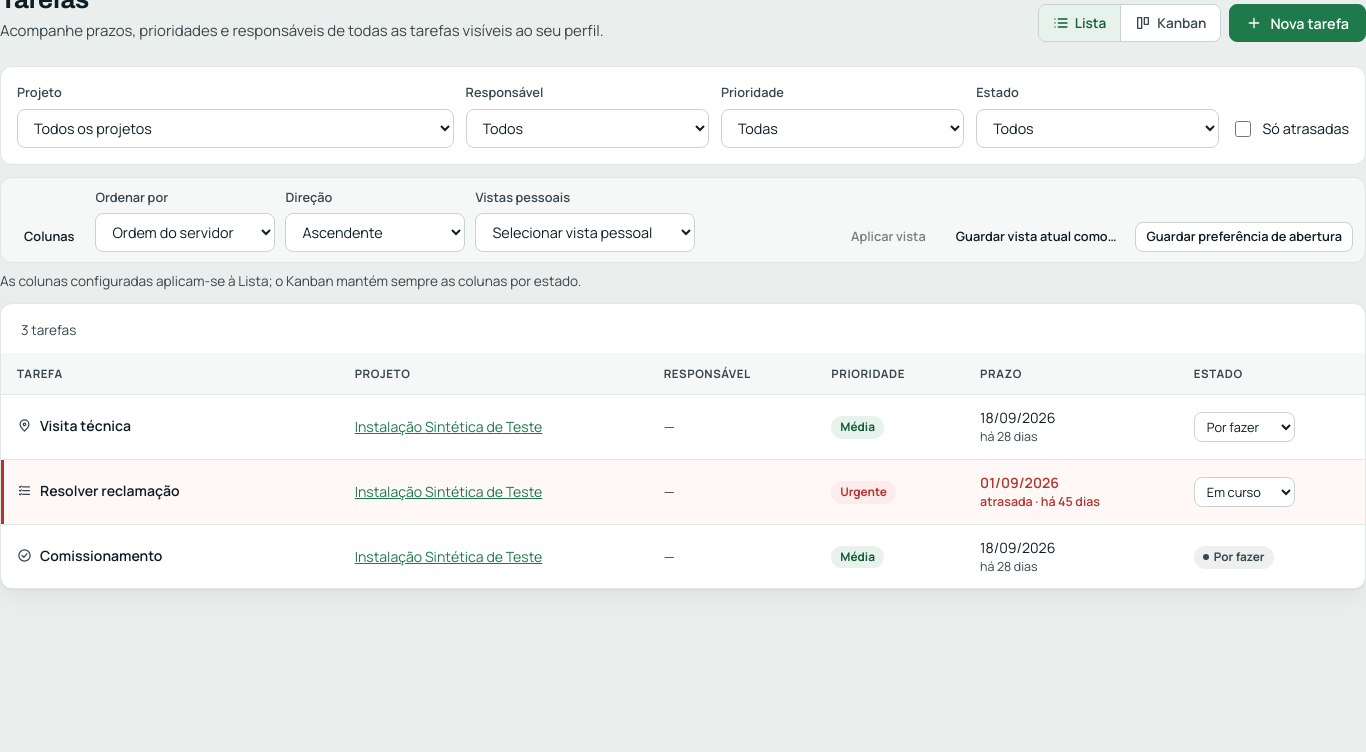
Test: Tasks › permite esconder, reordenar e restaurar colunas da lista sem alterar o Kanban
The width and height of the screenshot is (1366, 752).
expect the text "Visita técnica" is shown: met, box [17, 415, 131, 436]
Step 1. Click the button "Colunas" → [49, 237], box [13, 222, 85, 252]
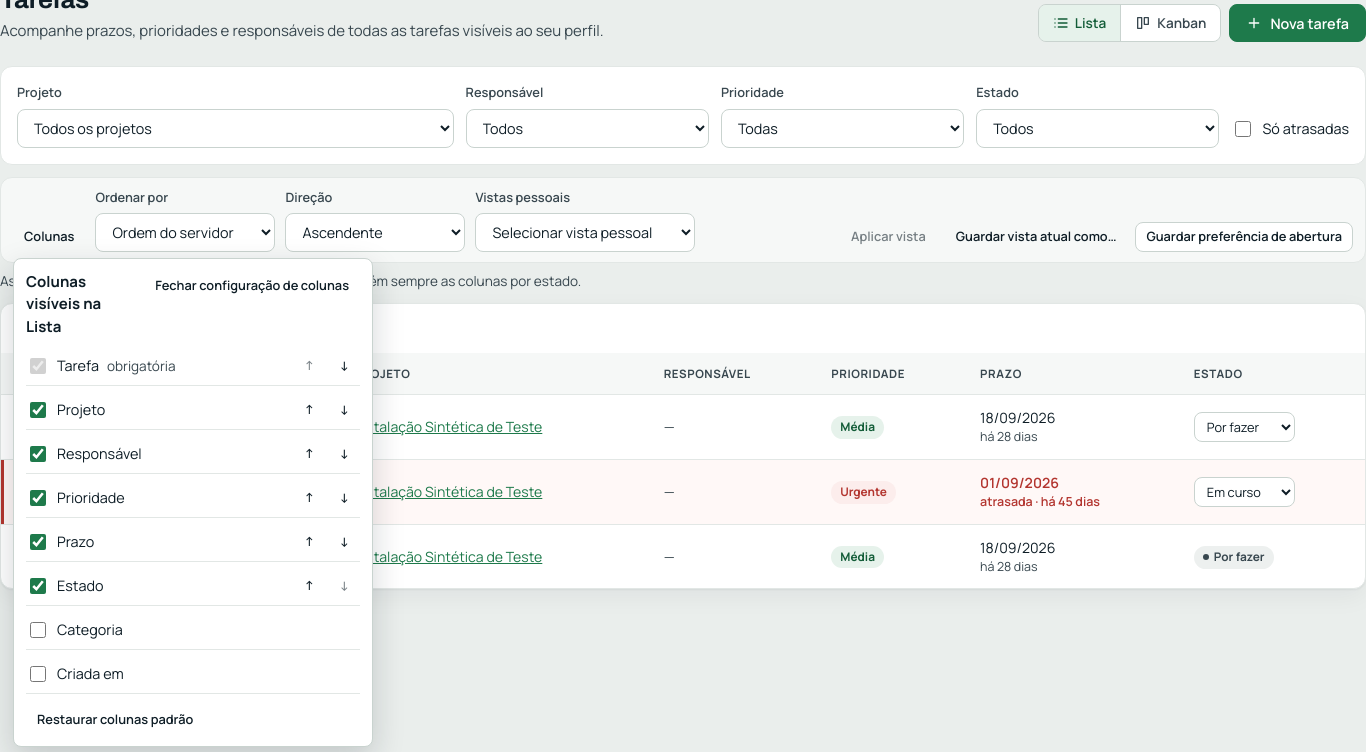
Step 2. Click the checkbox named "Mostrar Responsável" → [38, 454], box [30, 446, 46, 462]
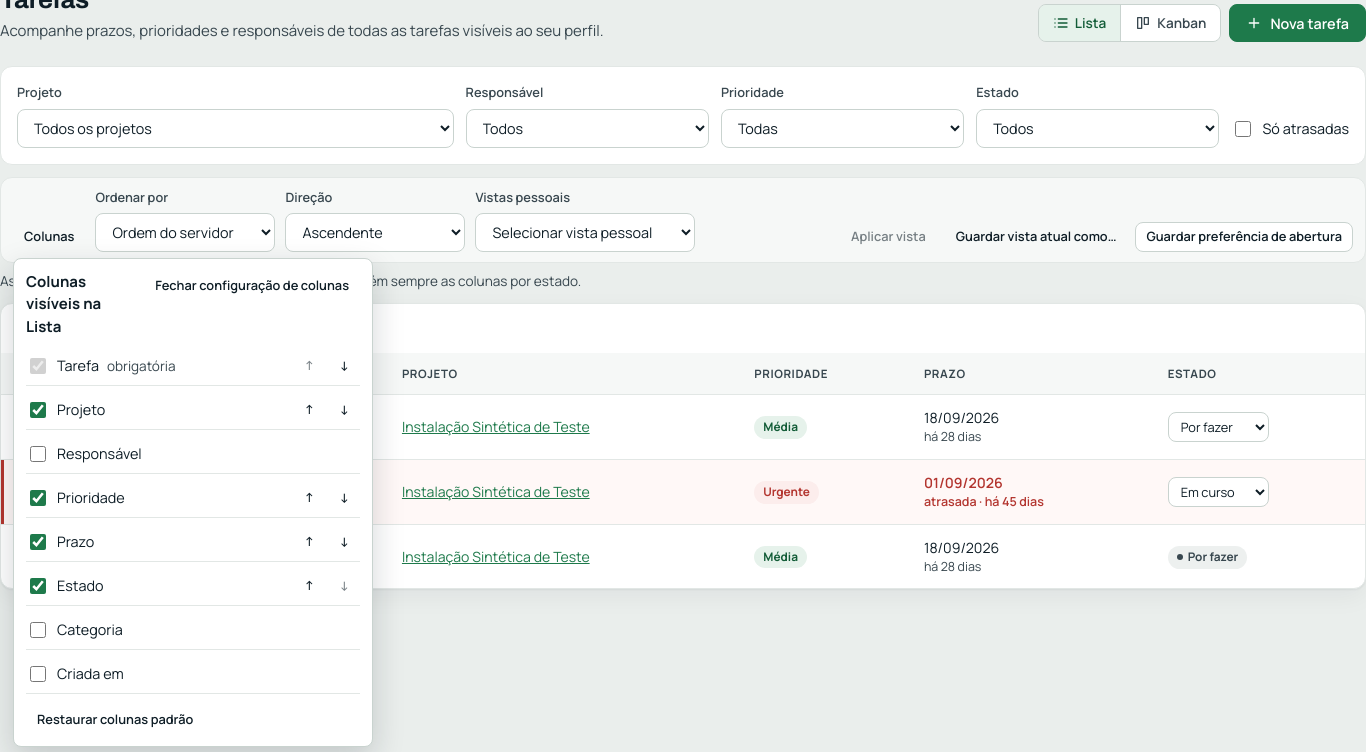
Step 3. Click the button named "Descer coluna Prioridade" → [344, 498], box [329, 483, 360, 513]
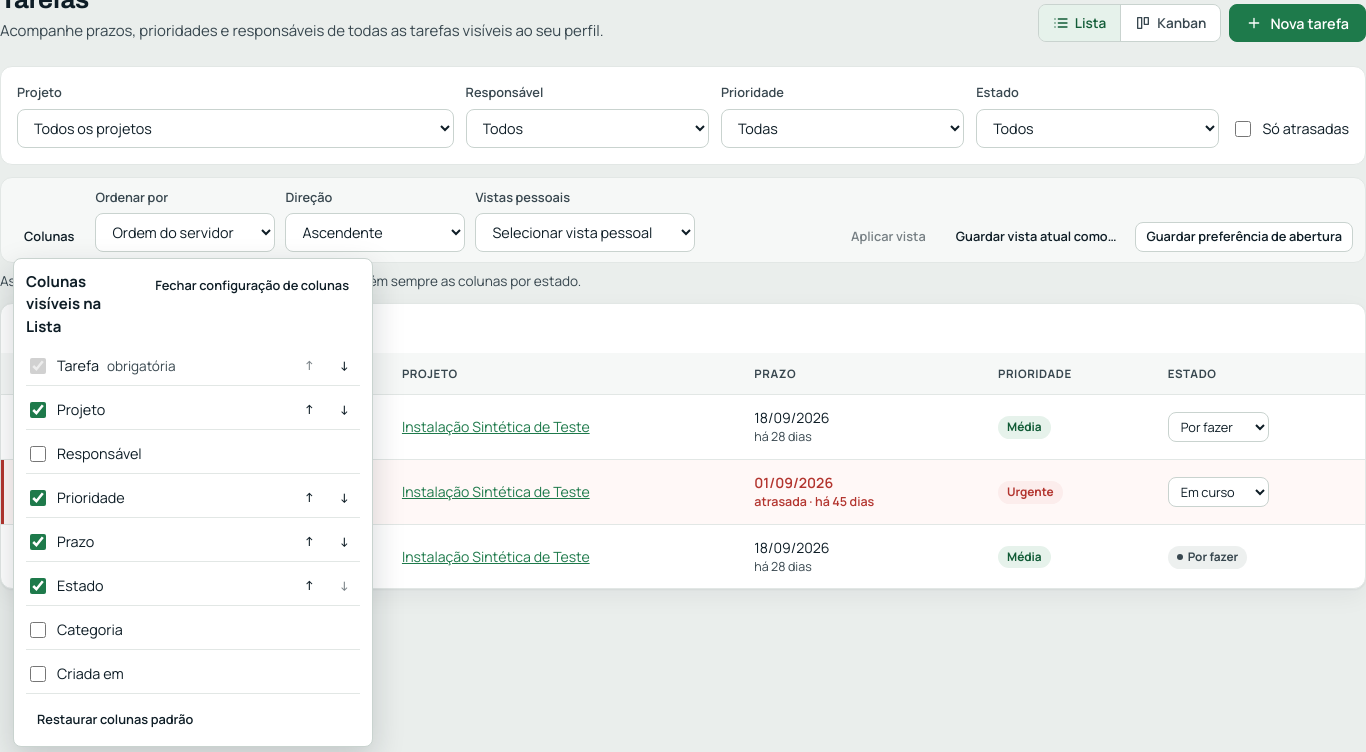
Step 4. Click the button "Restaurar colunas padrão" → [115, 719], box [26, 704, 204, 734]
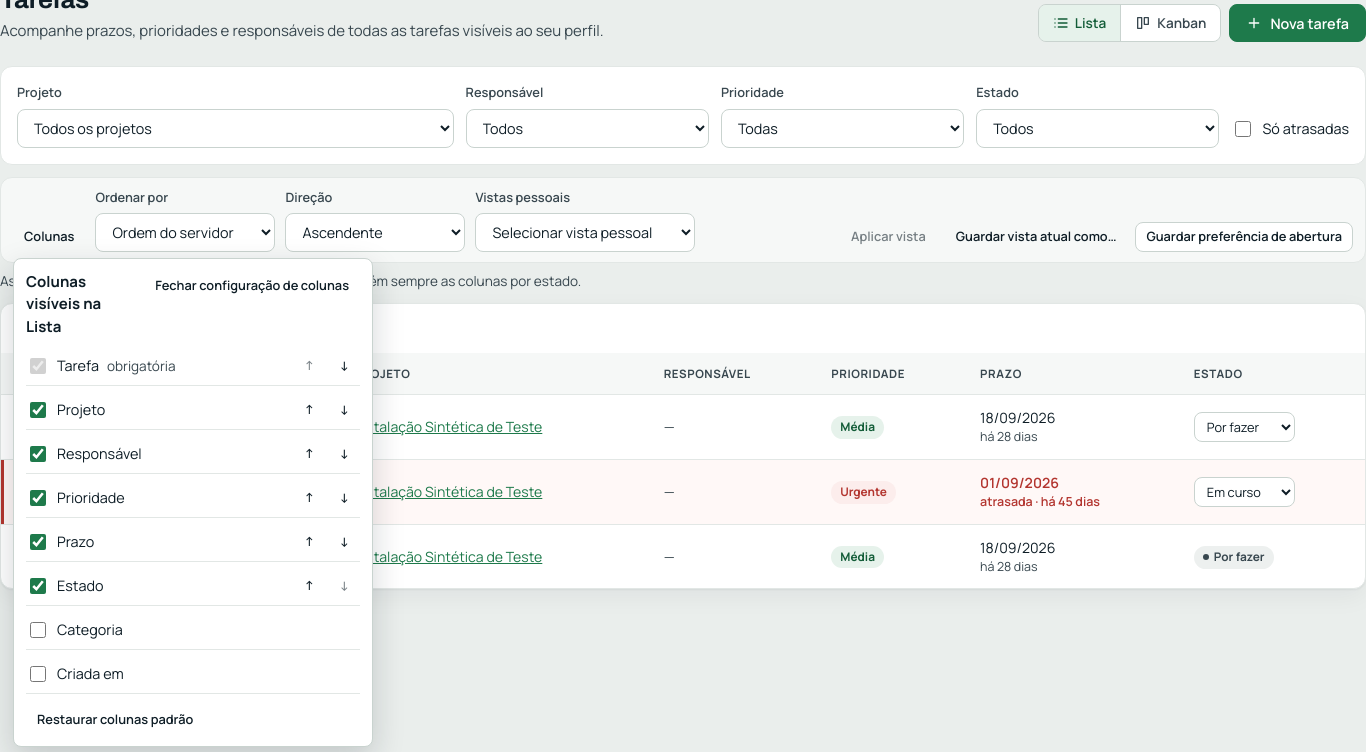
Step 5. Click the button "Kanban" → [1170, 24], box [1120, 6, 1220, 42]
(page scrolled)
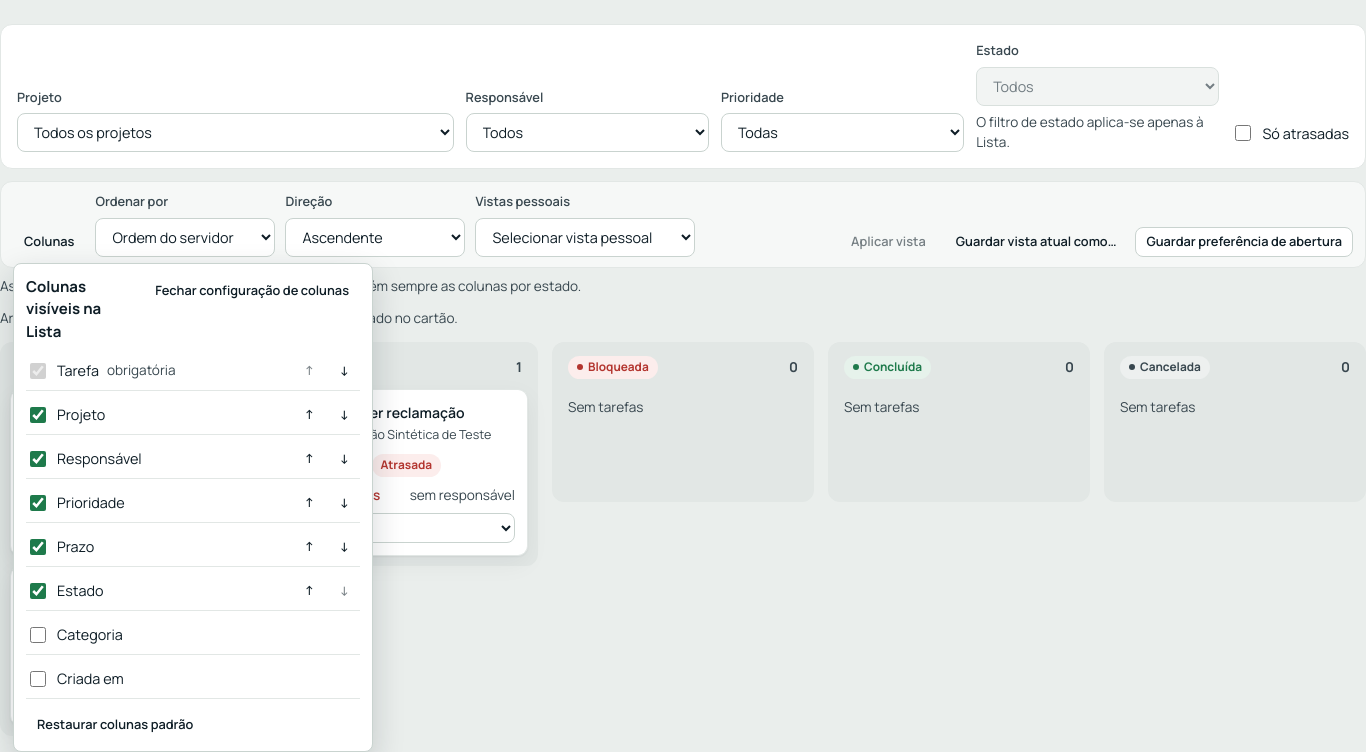
expect the element "Por fazer" is shown: met, box [0, 342, 262, 736]
expect the table is gone: met
